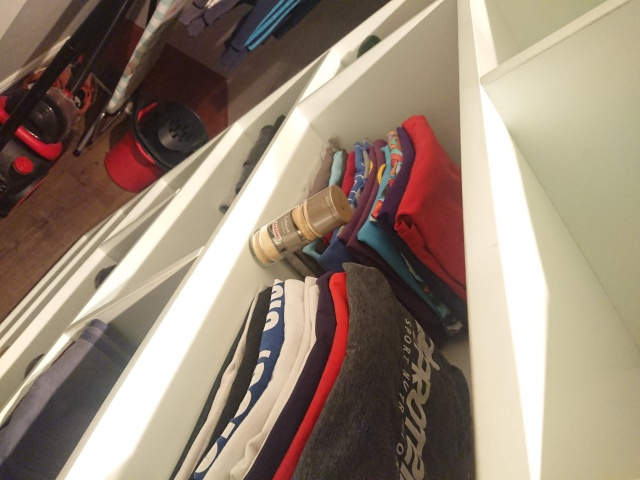Kotanyi Garlic Granules 70g: (247, 183, 353, 271)
